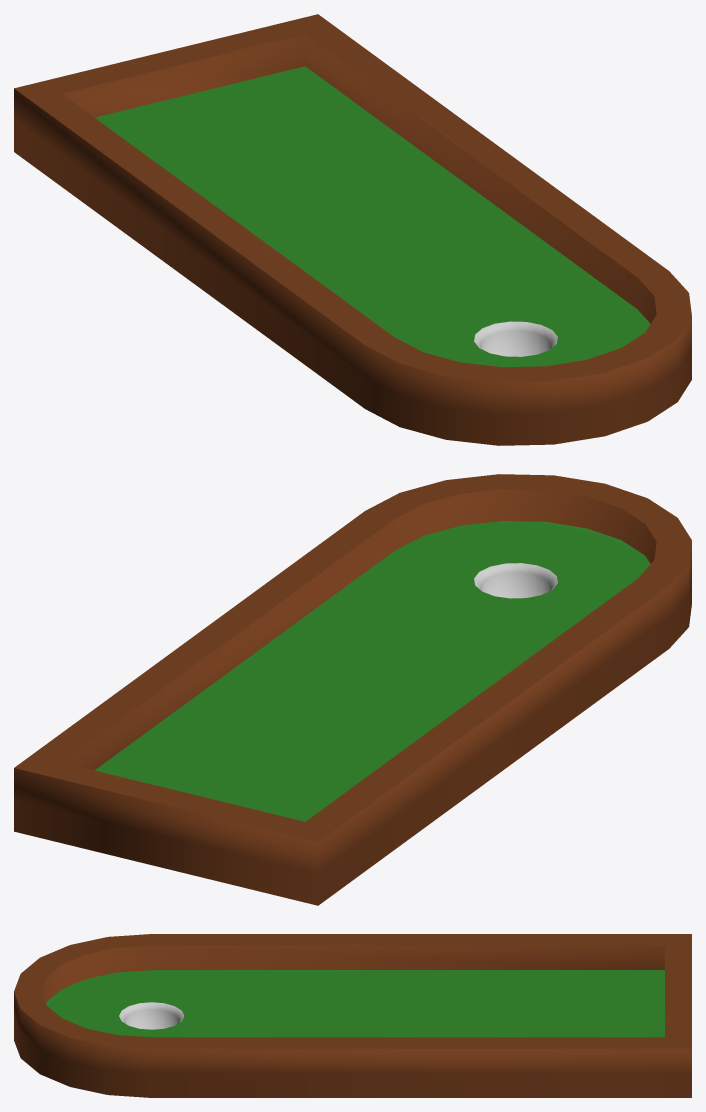
Rendered from track_test.fbx.
3 views of the same model, one above another, from view 1: azimuth 30°, elevation 25°; view 2: azimuth 150°, elevation 25°; view 3: azimuth 270°, elevation 25° (orthographic). The views are drawn at different scales.
Visible parts, largest first — view 1: Plane; view 2: Plane; view 3: Plane.
Boxes of the visible parts, <box> form: Plane: <box>14,14,691,445</box>; Plane: <box>14,474,691,905</box>; Plane: <box>14,934,691,1097</box>.
Bounding box in the file's own units: 100 × 20 × 250.
